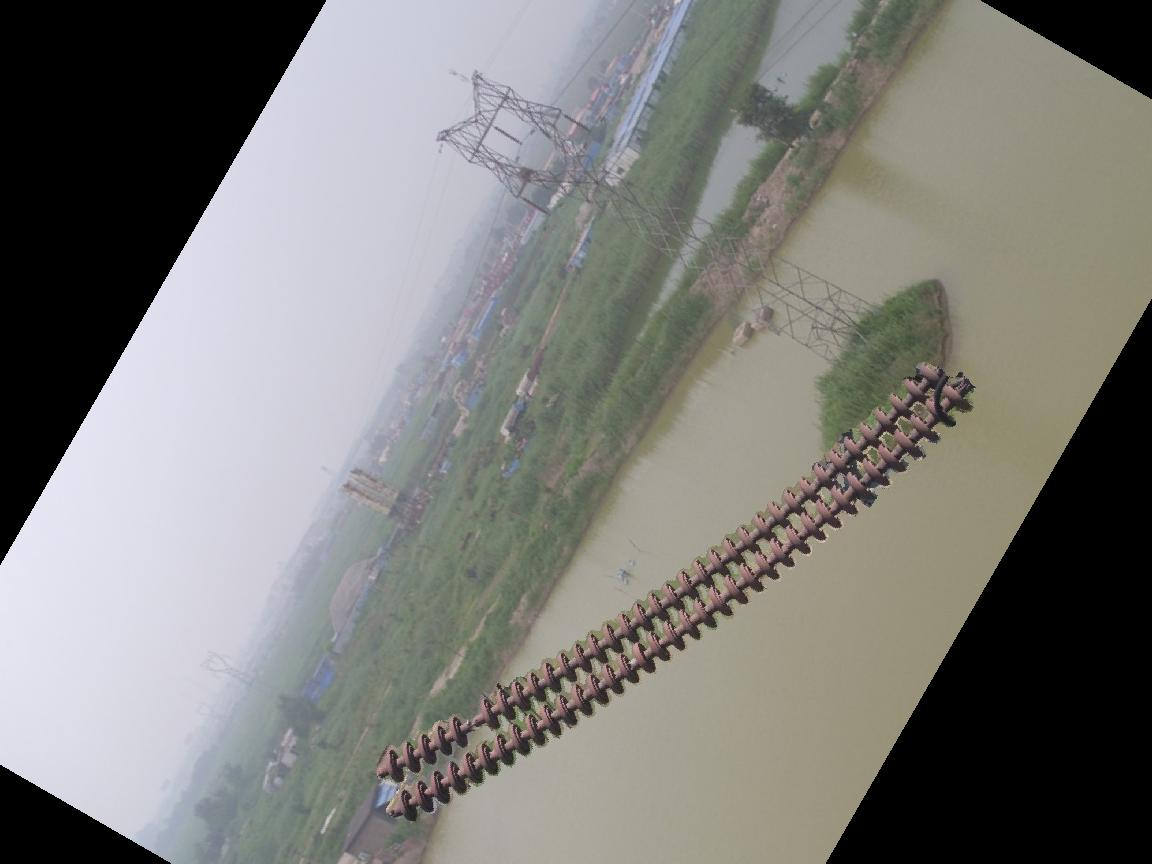insulator: (377, 355, 978, 823)
insulator_stringdrop: (446, 693, 503, 752)
